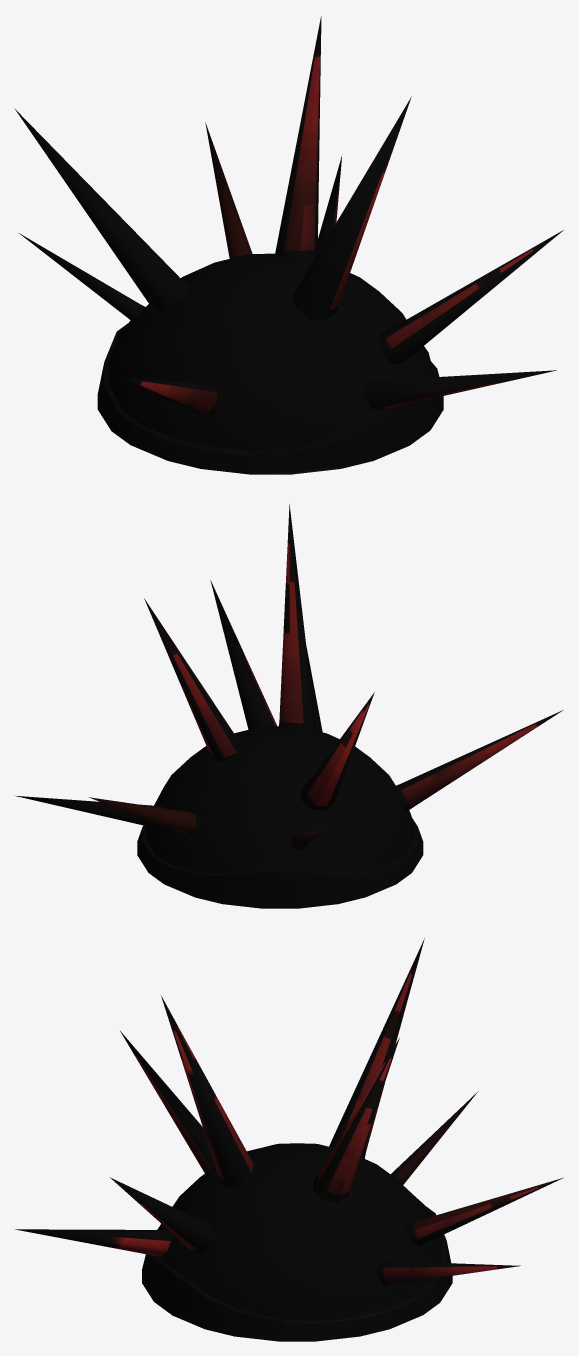
File: obstacle.fbx
The picture shows the model from 3 angles, top to bottom: view 1: azimuth 30°, elevation 25°; view 2: azimuth 150°, elevation 25°; view 3: azimuth 270°, elevation 25°; orthographic projection. The views are drawn at different scales.
Visible parts, largest first — view 1: node_id72; view 2: node_id72; view 3: node_id72.
Boxes of the visible parts, x1,y1,x2,y2 form: node_id72: (14,16,563,474); node_id72: (14,504,563,908); node_id72: (15,938,563,1341).
Size of the model in its own units: 0.512 by 0.4345 by 0.6166.
1 material, 1 textured.
